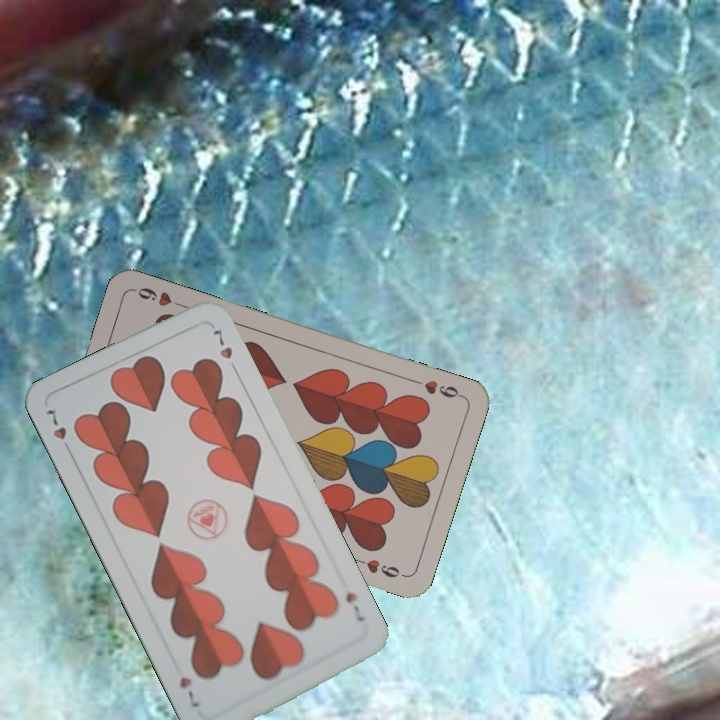H7: (41, 405, 76, 457), (341, 588, 368, 625)
H9: (407, 375, 465, 401)
